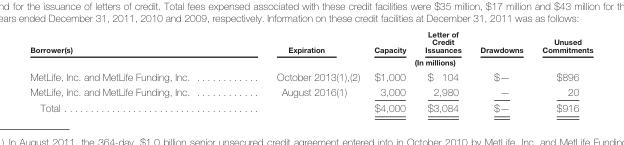table: (29, 29, 592, 113)
table column: (29, 29, 232, 113), (232, 29, 366, 113), (470, 29, 532, 113), (409, 29, 470, 113), (532, 29, 592, 113), (366, 29, 409, 113)
table column header: (29, 29, 592, 68)
table row: (29, 29, 592, 55), (29, 83, 592, 99), (29, 68, 592, 83), (29, 99, 592, 113), (29, 55, 592, 68)
table spanning cell: (29, 29, 232, 68), (232, 29, 366, 68), (532, 29, 592, 68), (366, 29, 409, 68), (409, 55, 532, 68)
